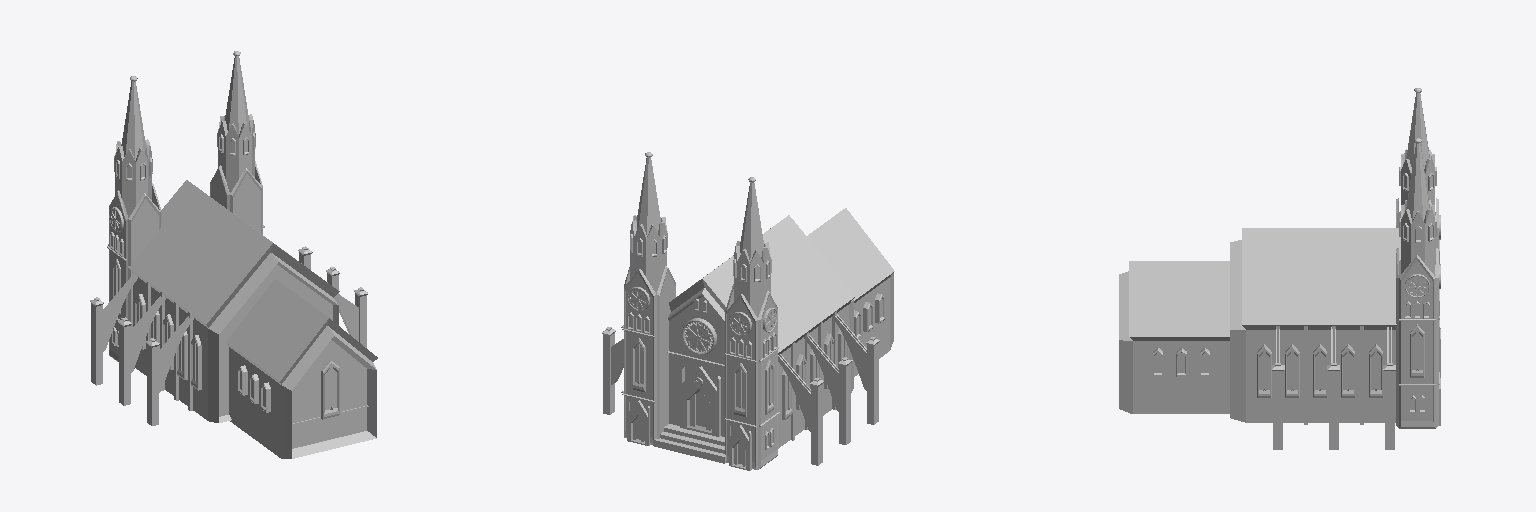
The model's file is cathedral_west.obj.
3 views of the same model, side by side, from view 1: azimuth 30°, elevation 25°; view 2: azimuth 150°, elevation 25°; view 3: azimuth 270°, elevation 25° (orthographic).
Parts seen in each view (by area): view 1: Body_Cube.049, Body.001_Cube.095, Cylinder.006_Cylinder.008, Cylinder.007_Cylinder.009, TowerFace.000_Cube.029, TowerFace.003_Cube.029, TowerFace.005_Cube.010, Cube.056_Cube.080, Cube.059_Cube.083, Cube.054_Cube.075, Cube.071_Cube.096, Cube.055_Cube.076 (+5 smaller); view 2: Body_Cube.049, Body.001_Cube.095, Tower_Cube.004, Tower.001_Cube.004, Cylinder.006_Cylinder.008, Cylinder.007_Cylinder.009, Cube.033_Cube.052, TowerFace.002_Cube.020, TowerFace.005_Cube.010, Cube.059_Cube.083, Cube.054_Cube.075, Cube.056_Cube.080 (+10 smaller); view 3: Body_Cube.049, Body.001_Cube.095, TowerFace.001_Cube.010, Cylinder.006_Cylinder.008, Cylinder.007_Cylinder.009, Cube.068_Cube.092, Cube.065_Cube.089, Cube.062_Cube.086, Cube.049_Cube.070, Cube.048_Cube.069, Cube.009_Cube.013, Cube.052_Cube.073 (+4 smaller).
Boxes of the visible parts, x1=… form: Body_Cube.049: x1=128, y1=180, x2=339, y2=422; Body.001_Cube.095: x1=226, y1=279, x2=377, y2=458; Cylinder.006_Cylinder.008: x1=218, y1=51, x2=254, y2=192; Cylinder.007_Cylinder.009: x1=115, y1=76, x2=151, y2=217; TowerFace.000_Cube.029: x1=128, y1=193, x2=160, y2=368; TowerFace.003_Cube.029: x1=230, y1=168, x2=261, y2=233; TowerFace.005_Cube.010: x1=109, y1=190, x2=128, y2=361; Cube.056_Cube.080: x1=118, y1=317, x2=131, y2=405; Cube.059_Cube.083: x1=145, y1=338, x2=159, y2=425; Cube.054_Cube.075: x1=90, y1=297, x2=103, y2=385; Cube.071_Cube.096: x1=321, y1=359, x2=339, y2=419; Cube.055_Cube.076: x1=103, y1=275, x2=137, y2=351; Body_Cube.049: x1=668, y1=215, x2=855, y2=448; Body.001_Cube.095: x1=807, y1=208, x2=894, y2=376; Tower_Cube.004: x1=624, y1=269, x2=656, y2=444; Tower.001_Cube.004: x1=726, y1=294, x2=757, y2=469; Cylinder.006_Cylinder.008: x1=630, y1=152, x2=666, y2=294; Cylinder.007_Cylinder.009: x1=734, y1=177, x2=770, y2=317; Cube.033_Cube.052: x1=680, y1=366, x2=720, y2=436; TowerFace.002_Cube.020: x1=657, y1=266, x2=675, y2=438; TowerFace.005_Cube.010: x1=758, y1=291, x2=777, y2=469; Cube.059_Cube.083: x1=866, y1=337, x2=879, y2=424; Cube.054_Cube.075: x1=810, y1=378, x2=823, y2=465; Cube.056_Cube.080: x1=838, y1=357, x2=852, y2=444; Body_Cube.049: x1=1230, y1=228, x2=1400, y2=422; Body.001_Cube.095: x1=1119, y1=261, x2=1229, y2=413; TowerFace.001_Cube.010: x1=1399, y1=255, x2=1435, y2=428; Cylinder.006_Cylinder.008: x1=1401, y1=138, x2=1434, y2=275; Cylinder.007_Cylinder.009: x1=1401, y1=88, x2=1434, y2=204; Cube.068_Cube.092: x1=1383, y1=363, x2=1395, y2=449; Cube.065_Cube.089: x1=1327, y1=363, x2=1339, y2=449; Cube.062_Cube.086: x1=1272, y1=363, x2=1284, y2=449; Cube.049_Cube.070: x1=1285, y1=344, x2=1299, y2=397; Cube.048_Cube.069: x1=1257, y1=344, x2=1271, y2=397; Cube.009_Cube.013: x1=1410, y1=324, x2=1424, y2=377; Cube.052_Cube.073: x1=1369, y1=344, x2=1382, y2=397.
Bounding box in the file's own units: 13.44 × 16.79 × 17.34.